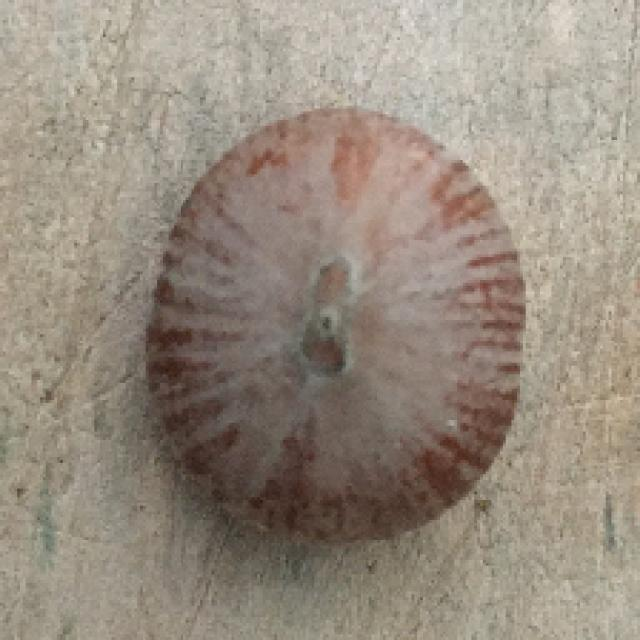qualityHazelnut: (119, 90, 535, 560)
